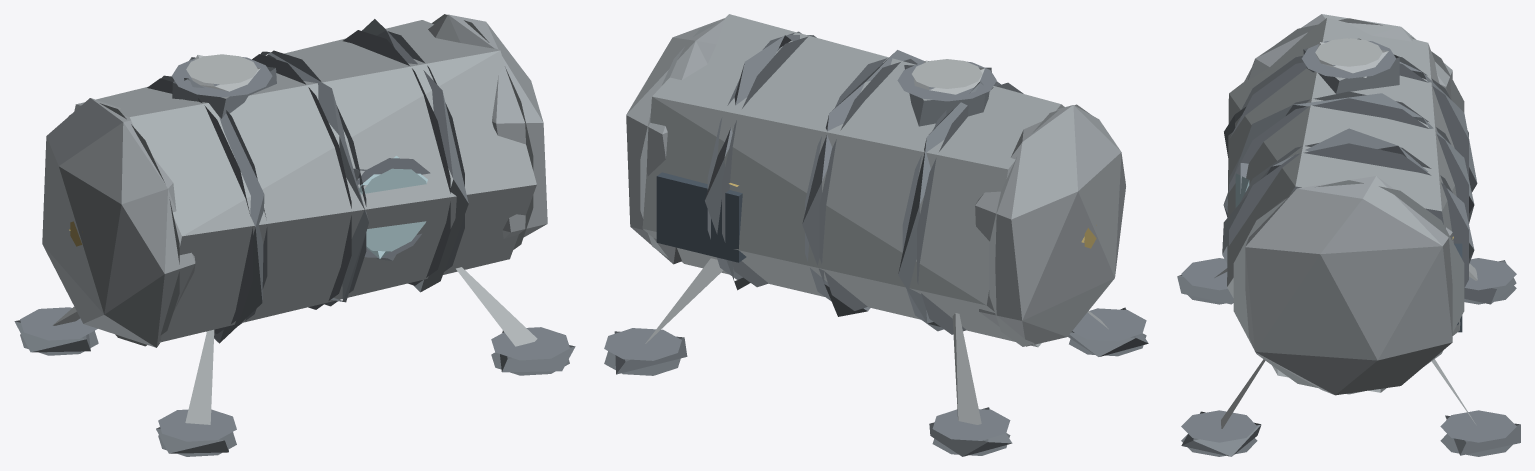
3 renders of one model, left to right at view 1: azimuth 30°, elevation 25°; view 2: azimuth 150°, elevation 25°; view 3: azimuth 270°, elevation 25°, orthographic. The views are drawn at different scales.
Parts seen in each view (by area): view 1: sea_research_pod.001; view 2: sea_research_pod.001; view 3: sea_research_pod.001.
Part boxes in pixels (box(x1,y1,x2,y2)): sea_research_pod.001: box(14, 14, 575, 456); sea_research_pod.001: box(604, 14, 1148, 456); sea_research_pod.001: box(1177, 14, 1520, 456).
Size of the model in its own units: 4.24 by 2.73 by 3.05.
